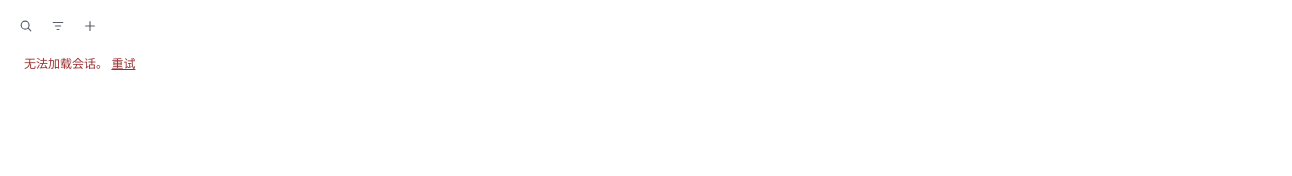
Test case: initial load failure is an error, and retry restores the list
The image size is (1292, 176).
Expected: the message shows "无法加载会话", top-left (24, 56), bottom-right (108, 71)
Click the button "重试": click(123, 64) top-left (111, 56), bottom-right (135, 72)
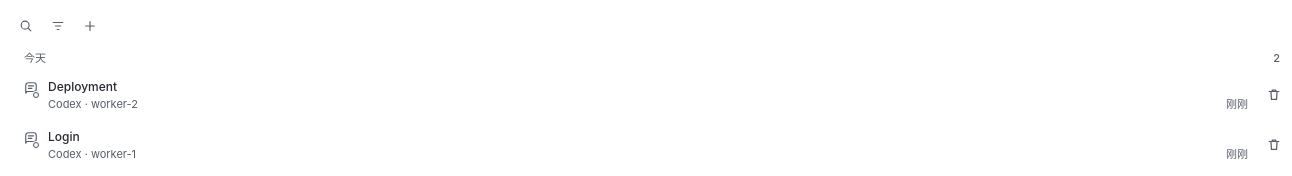
Expected: the text "Login" is shown, top-left (48, 129), bottom-right (80, 145)
Expected: the message "无法加载会话。 重试" is gone
